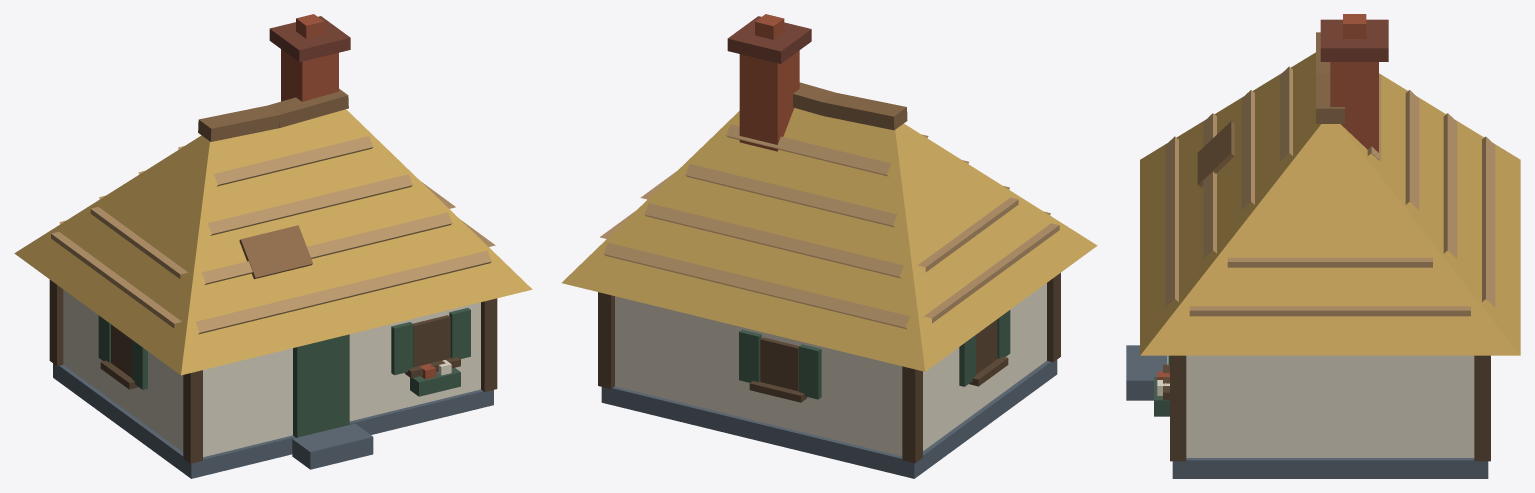
Rendered from cottage-01.glb.
The picture shows the model from 3 angles, left to right: view 1: azimuth 30°, elevation 25°; view 2: azimuth 150°, elevation 25°; view 3: azimuth 270°, elevation 25°; orthographic projection. The views are drawn at different scales.
Visible parts, largest first — view 1: house, accent; view 2: house, accent; view 3: house.
Boxes of the visible parts, box(x1,y1,x2,y2) form: house: box(14, 14, 532, 478); accent: box(98, 308, 470, 437); house: box(562, 14, 1097, 478); accent: box(739, 310, 1010, 399); house: box(1126, 14, 1520, 478).
Size of the model in its own units: 6.7 by 6.41 by 5.7.
Materials: 1 (1 with a texture image).
